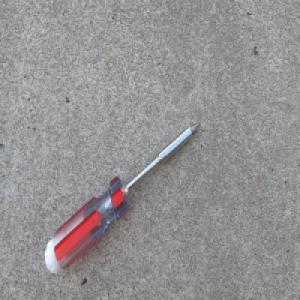Screwdriver: (43, 118, 202, 274)
